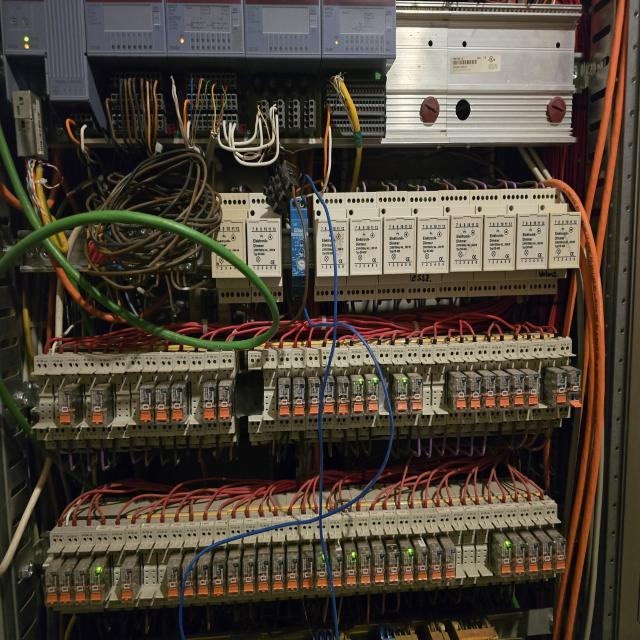Dimmer: (526, 188, 581, 293), (496, 188, 550, 294), (436, 190, 485, 298), (468, 190, 516, 297), (210, 193, 252, 303), (407, 191, 450, 298), (375, 191, 417, 300), (345, 192, 383, 301), (246, 193, 283, 303), (313, 193, 349, 301), (290, 198, 309, 299)
Relais: (90, 383, 114, 426), (119, 554, 140, 602), (58, 384, 82, 425), (545, 528, 566, 574), (543, 367, 567, 406), (90, 555, 109, 604), (491, 532, 511, 577), (45, 559, 64, 606), (73, 557, 91, 605), (438, 535, 456, 582), (520, 531, 539, 575), (59, 558, 77, 604), (447, 371, 467, 412), (533, 529, 552, 571), (507, 532, 525, 576), (411, 537, 429, 581), (241, 547, 257, 596), (425, 537, 442, 582), (505, 368, 524, 406), (521, 368, 540, 406), (212, 548, 227, 596), (196, 551, 212, 596), (391, 373, 408, 415), (398, 539, 414, 583), (564, 366, 581, 407), (385, 539, 400, 585), (492, 370, 510, 408), (407, 372, 423, 414), (171, 382, 188, 421), (227, 549, 241, 596), (479, 370, 496, 408), (343, 541, 357, 587), (357, 540, 371, 586), (371, 540, 385, 585), (329, 542, 343, 587), (167, 553, 181, 598), (465, 371, 481, 410), (286, 544, 299, 592), (364, 374, 379, 415), (218, 380, 233, 420), (301, 544, 314, 590), (272, 546, 285, 591), (257, 547, 270, 592), (182, 552, 195, 597), (350, 375, 364, 415), (292, 377, 305, 420), (155, 383, 169, 422), (337, 376, 350, 417), (140, 384, 154, 422), (203, 382, 216, 420), (316, 545, 327, 588), (308, 377, 320, 416), (279, 378, 290, 417), (324, 376, 335, 415)
SPS_System_Steuerungskomponente: (0, 0, 87, 54), (84, 0, 166, 57), (243, 0, 322, 58), (164, 1, 244, 58), (321, 0, 397, 59)
